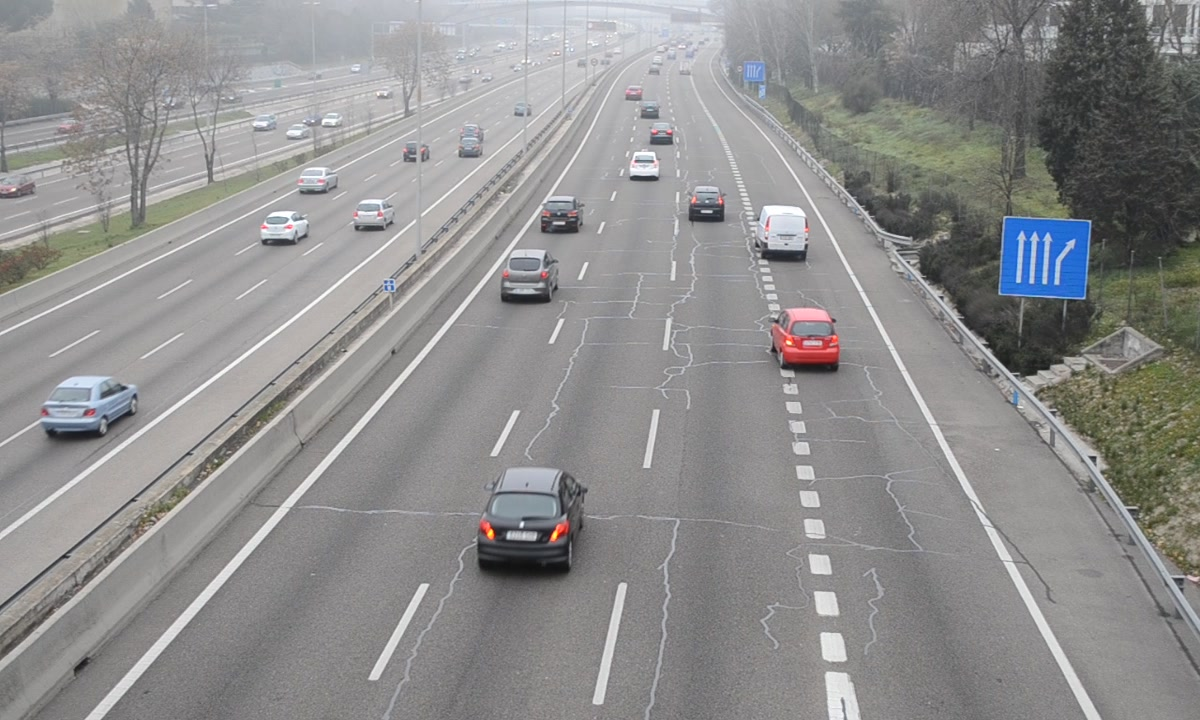car: (479, 468, 583, 570), (770, 307, 841, 368), (499, 249, 559, 296), (540, 197, 585, 235), (688, 186, 727, 222), (627, 147, 662, 179), (648, 121, 673, 145)
van: (758, 205, 809, 256)
